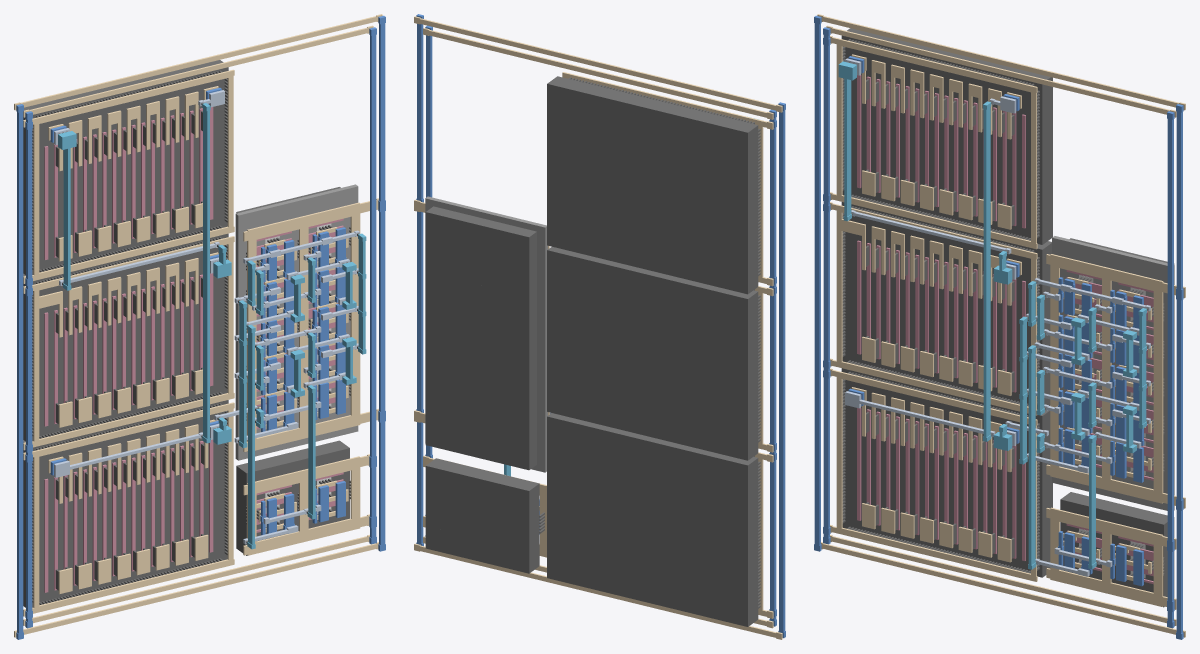
The model's file is single_stage_OTA.gds.gltf.
3 renders of one model, left to right at view 1: azimuth 30°, elevation 25°; view 2: azimuth 150°, elevation 25°; view 3: azimuth 330°, elevation 25°, orthographic.
Visible parts, largest first — view 1: JNWTR_RPPO16_substrate (×3), JNWTR_RES16_poly (×3), JNWTR_RES16_li1 (×3), OTA_li1, OTA_met1, OTA_met3, JNWTR_RPPO16_li1 (×3), JNWTR_RES16_substrate (×2), OTA_met2, JNWATR_PCH_4C5F0_met1 (×10), JNWTR_RES16_licon (×3), JNWTR_RPPO16_licon (×3) (+12 smaller); view 2: JNWTR_RPPO16_substrate (×3), JNWTR_RES16_substrate (×3), JNWATR_PCH_4C5F0_substrate (×10), OTA_met1, OTA_li1, JNWATR_NCH_4C5F0_substrate (×2), JNWATR_NCH_4CTAPTOP_substrate (×2), JNWATR_PCH_4CTAPTOP_substrate (×2), JNWTR_RPPO16_li1 (×3), JNWATR_NCH_4CTAPBOT_substrate (×2), JNWATR_PCH_4CTAPBOT_substrate (×2), JNWATR_PCH_4CTAPTOP_nwell (×2) (+1 smaller); view 3: JNWTR_RPPO16_substrate (×3), JNWTR_RES16_poly (×3), JNWTR_RES16_li1 (×3), OTA_met1, OTA_li1, OTA_met3, JNWTR_RPPO16_li1 (×3), OTA_met2, JNWTR_RES16_substrate (×2), JNWATR_PCH_4C5F0_met1 (×10), JNWTR_RES16_licon (×3), JNWTR_RPPO16_licon (×3) (+10 smaller).
Boxes of the visible parts, x1,y1,x2,y2 form: JNWTR_RPPO16_substrate (×3): [23, 60, 228, 607]; JNWTR_RES16_poly (×3): [44, 107, 213, 592]; JNWTR_RES16_li1 (×3): [58, 91, 208, 593]; OTA_li1: [14, 14, 382, 637]; OTA_met1: [16, 15, 385, 639]; OTA_met3: [58, 103, 366, 549]; JNWTR_RPPO16_li1 (×3): [33, 71, 233, 608]; JNWTR_RES16_substrate (×2): [45, 257, 208, 585]; OTA_met2: [54, 90, 359, 544]; JNWATR_PCH_4C5F0_met1 (×10): [261, 227, 345, 431]; JNWTR_RES16_licon (×3): [55, 111, 204, 590]; JNWTR_RPPO16_licon (×3): [32, 70, 227, 605]; JNWTR_RPPO16_substrate (×3): [547, 76, 758, 626]; JNWTR_RES16_substrate (×3): [565, 108, 729, 603]; JNWATR_PCH_4C5F0_substrate (×10): [425, 234, 536, 447]; OTA_met1: [416, 14, 785, 638]; OTA_li1: [414, 16, 782, 639]; JNWATR_NCH_4C5F0_substrate (×2): [425, 488, 539, 550]; JNWATR_NCH_4CTAPTOP_substrate (×2): [425, 458, 539, 513]; JNWATR_PCH_4CTAPTOP_substrate (×2): [425, 206, 536, 259]; JNWTR_RPPO16_li1 (×3): [563, 73, 763, 614]; JNWATR_NCH_4CTAPBOT_substrate (×2): [425, 526, 539, 573]; JNWATR_PCH_4CTAPBOT_substrate (×2): [425, 422, 536, 470]; JNWATR_PCH_4CTAPTOP_nwell (×2): [425, 196, 547, 249]; JNWTR_RPPO16_substrate (×3): [841, 28, 1052, 577]; JNWTR_RES16_poly (×3): [857, 75, 1025, 560]; JNWTR_RES16_li1 (×3): [853, 60, 1011, 562]; OTA_met1: [814, 15, 1183, 639]; OTA_li1: [817, 14, 1185, 637]; OTA_met3: [838, 61, 1146, 569]; JNWTR_RPPO16_li1 (×3): [836, 40, 1036, 580]; OTA_met2: [845, 58, 1150, 576]; JNWTR_RES16_substrate (×2): [861, 70, 1024, 551]; JNWATR_PCH_4C5F0_met1 (×10): [1058, 277, 1143, 482]; JNWTR_RES16_licon (×3): [866, 79, 1014, 558]; JNWTR_RPPO16_licon (×3): [842, 39, 1039, 573].
Size of the model in its own units: 40.94 by 56.74 by 5.63.
